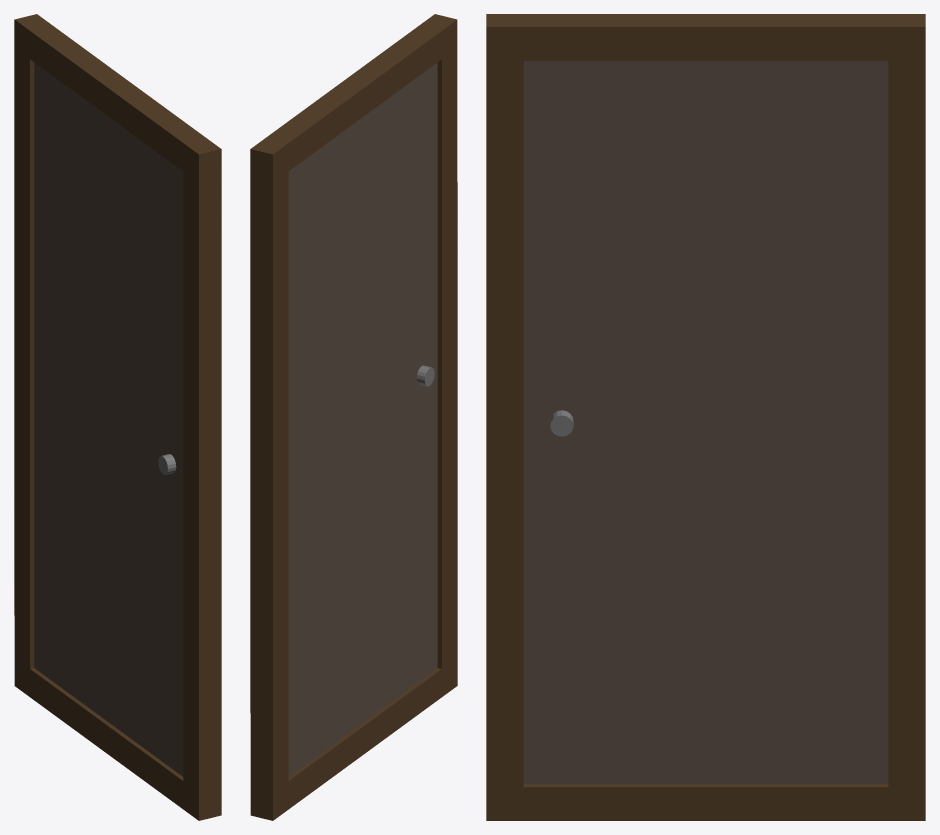
File: Door.fbx
The picture shows the model from 3 angles, left to right: view 1: azimuth 30°, elevation 25°; view 2: azimuth 150°, elevation 25°; view 3: azimuth 270°, elevation 25°; orthographic projection. The views are drawn at different scales.
Parts seen in each view (by area): view 1: Cube.001, Cube; view 2: Cube.001, Cube; view 3: Cube.001, Cube.
Part boxes in pixels (box(x1,y1,x2,y2)): Cube.001: box(34, 62, 183, 776); Cube: box(14, 14, 221, 820); Cube.001: box(288, 62, 437, 776); Cube: box(250, 14, 457, 820); Cube.001: box(523, 61, 888, 783); Cube: box(486, 14, 925, 820).
Size of the model in its own units: 87.78 by 1849 by 928.
